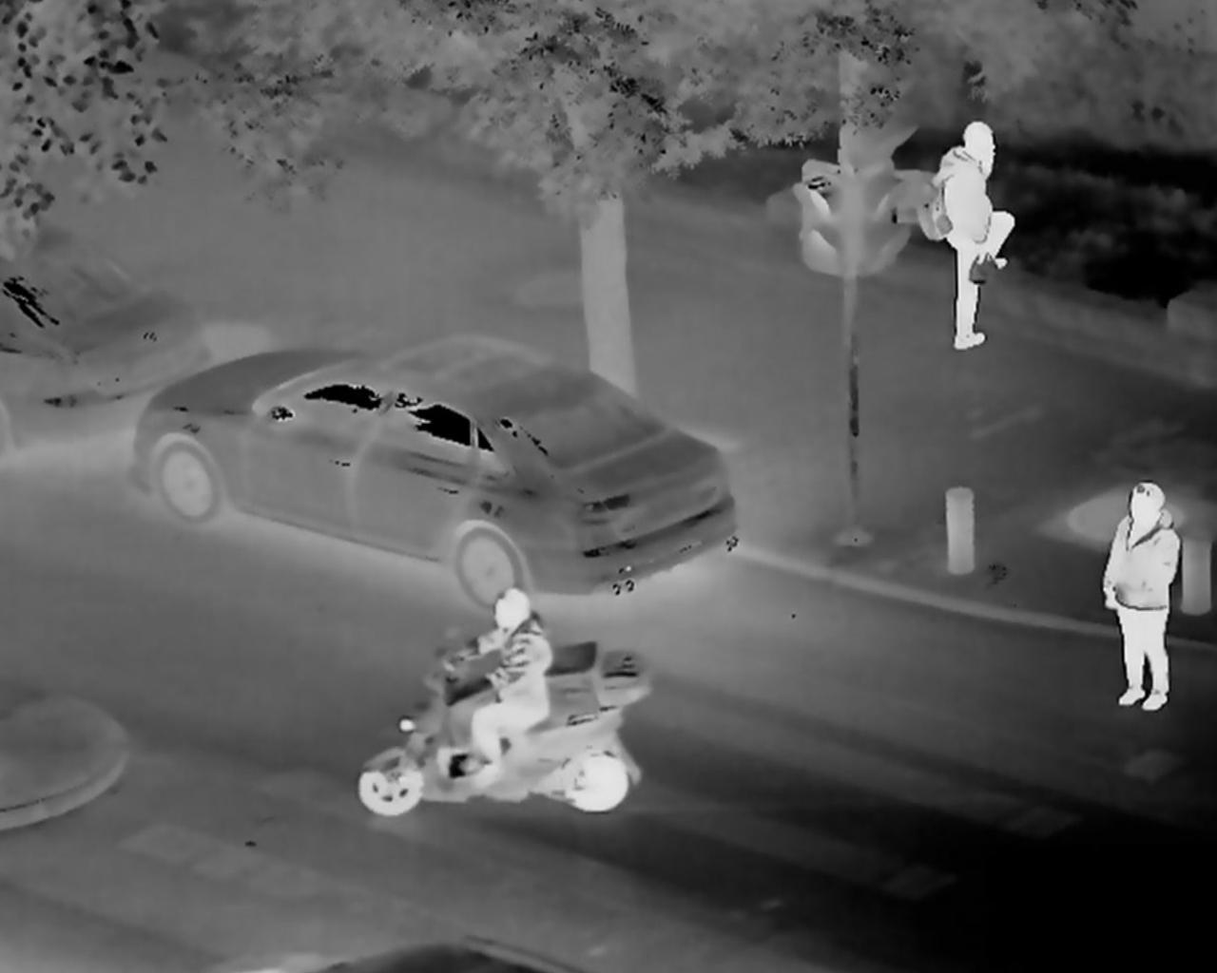person: (920, 120, 1018, 351), (453, 588, 563, 786), (1102, 481, 1181, 714)
